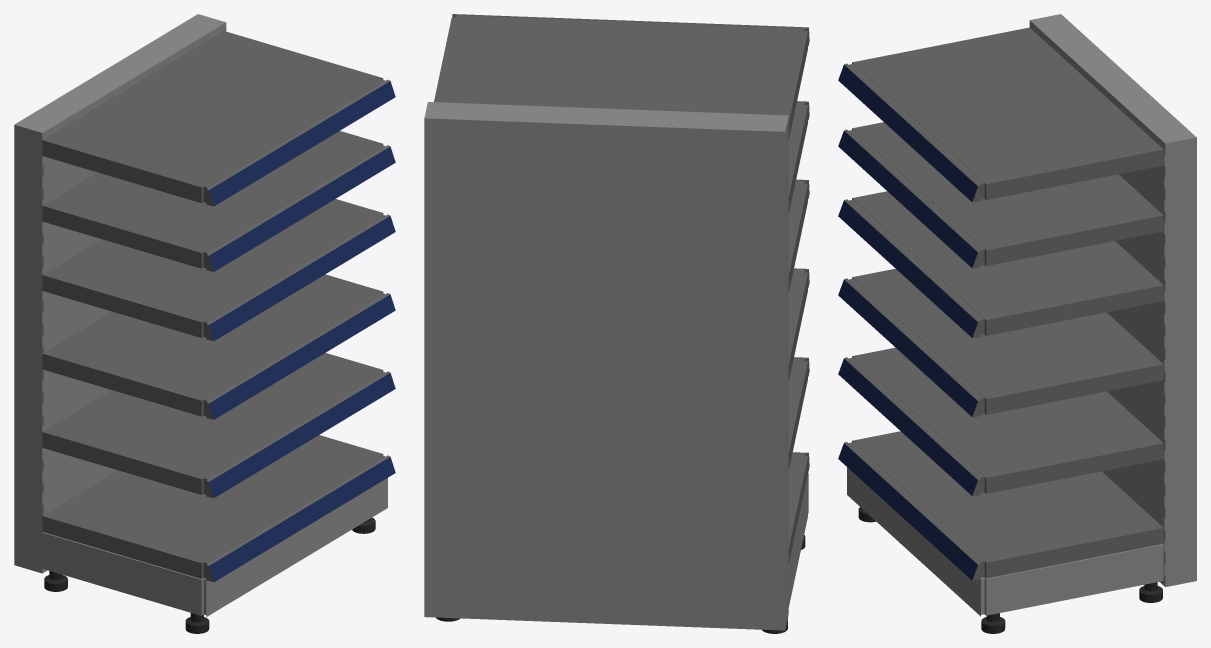
Rendered from estante_01.FBX.
3 renders of one model, left to right at view 1: azimuth 30°, elevation 25°; view 2: azimuth 150°, elevation 25°; view 3: azimuth 270°, elevation 25°, orthographic. The views are drawn at different scales.
Visible parts, largest first — view 1: group5, pCube13, pCube12; view 2: pCube13, group5, pCube12; view 3: group5, pCube13, pCube12.
Boxes of the visible parts, x1=… form: group5: x1=42, y1=31, x2=395, y2=581; pCube13: x1=14, y1=14, x2=226, y2=573; pCube12: x1=42, y1=478, x2=387, y2=616; pCube13: x1=424, y1=102, x2=788, y2=630; group5: x1=434, y1=14, x2=809, y2=565; pCube12: x1=788, y1=472, x2=808, y2=607; group5: x1=838, y1=27, x2=1163, y2=580; pCube13: x1=1029, y1=14, x2=1196, y2=586; pCube12: x1=847, y1=467, x2=1163, y2=616.
Size of the model in its own units: 0.8016 by 1.04 by 0.733.
